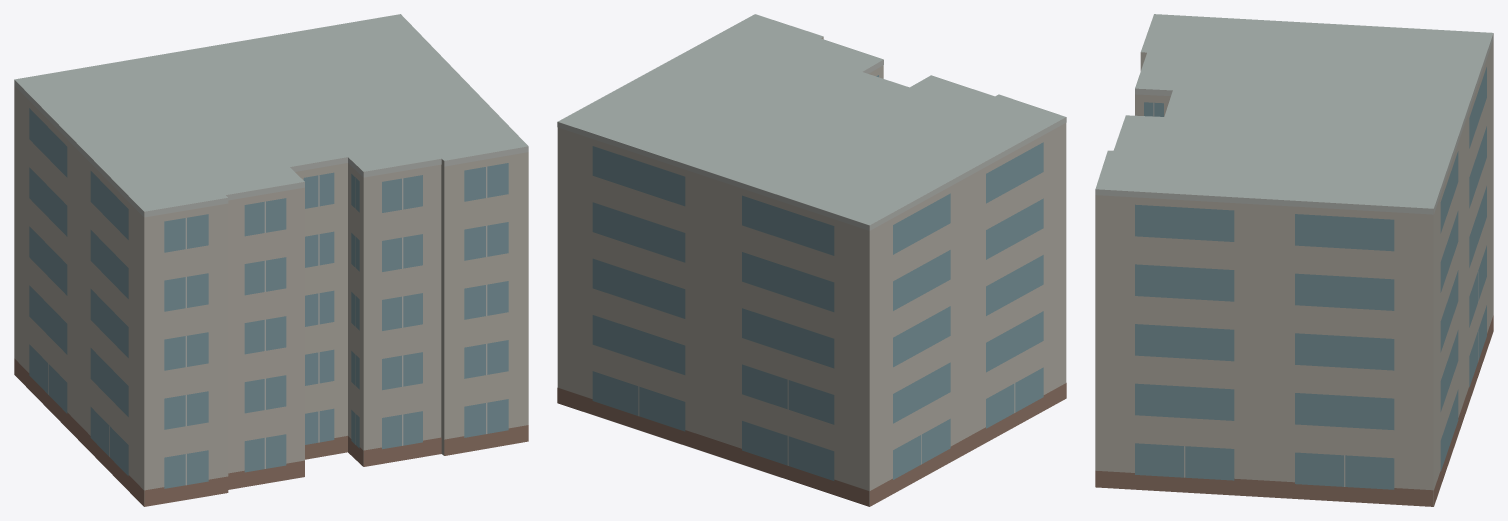
The model's file is survey-upis-32838295.glb.
3 views of the same model, side by side, from view 1: azimuth 30°, elevation 25°; view 2: azimuth 150°, elevation 25°; view 3: azimuth 270°, elevation 25° (orthographic). The views are drawn at different scales.
Visible parts, largest first — view 1: survey-upis-32838295.tmp; view 2: survey-upis-32838295.tmp; view 3: survey-upis-32838295.tmp.
Part boxes in pixels (x1,y1,x2,y2): survey-upis-32838295.tmp: (14, 14, 528, 506); survey-upis-32838295.tmp: (557, 14, 1066, 506); survey-upis-32838295.tmp: (1095, 14, 1493, 506).
Size of the model in its own units: 17.52 by 12.5 by 15.14.
